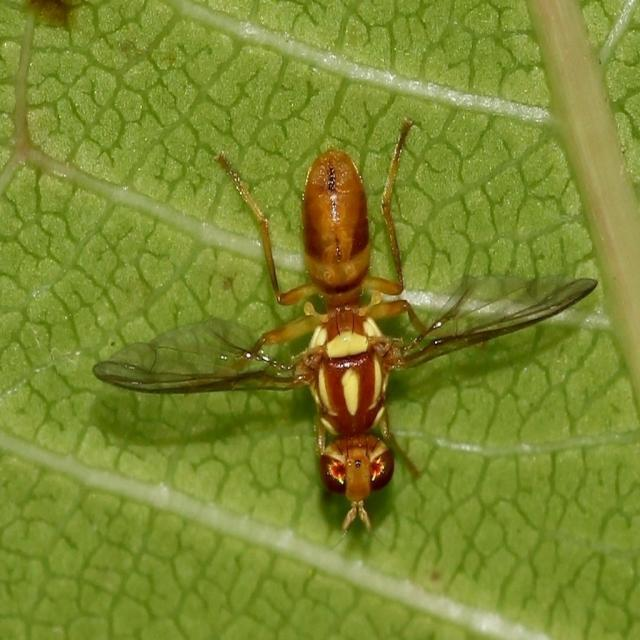Fruit fly: (85, 103, 605, 543)
